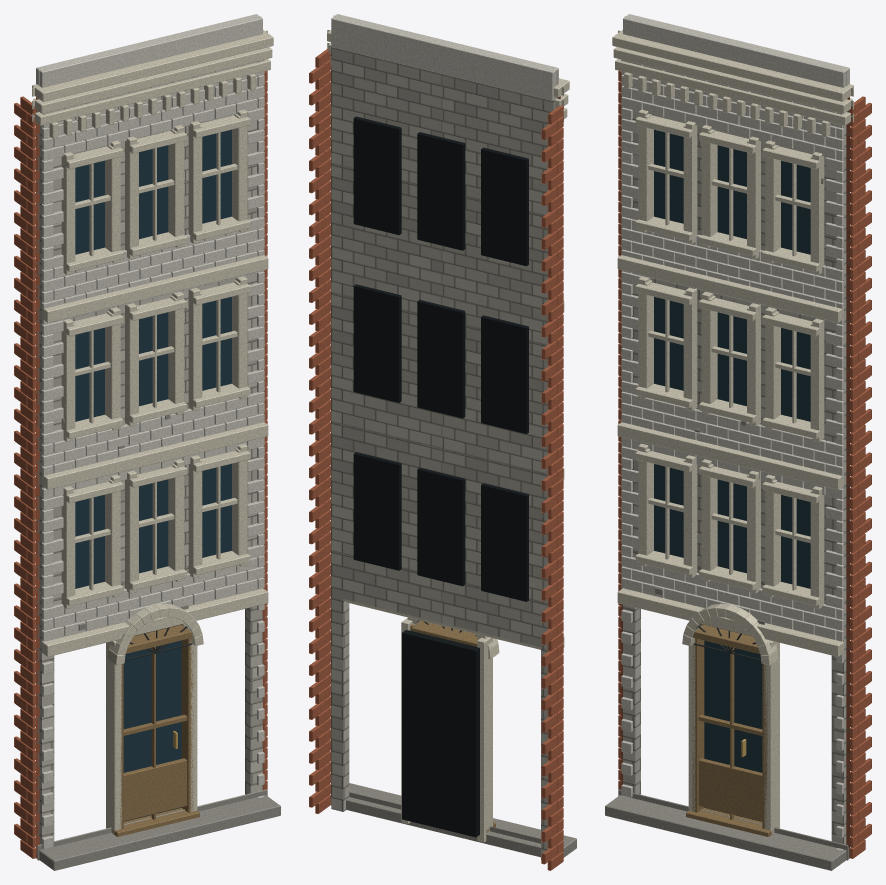
The model's file is OFFC15_lod0.glb.
3 views of the same model, side by side, from view 1: azimuth 30°, elevation 25°; view 2: azimuth 150°, elevation 25°; view 3: azimuth 330°, elevation 25° (orthographic).
Visible parts, largest first — view 1: OFFC15_FRONT_LOD0; view 2: OFFC15_FRONT_LOD0; view 3: OFFC15_FRONT_LOD0.
Boxes of the visible parts, <box> form: OFFC15_FRONT_LOD0: <box>14,14,280,870</box>; OFFC15_FRONT_LOD0: <box>309,14,576,870</box>; OFFC15_FRONT_LOD0: <box>605,14,871,870</box>.
Size of the model in its own units: 3.84 by 12.26 by 1.02.
16 materials, 13 textured.
